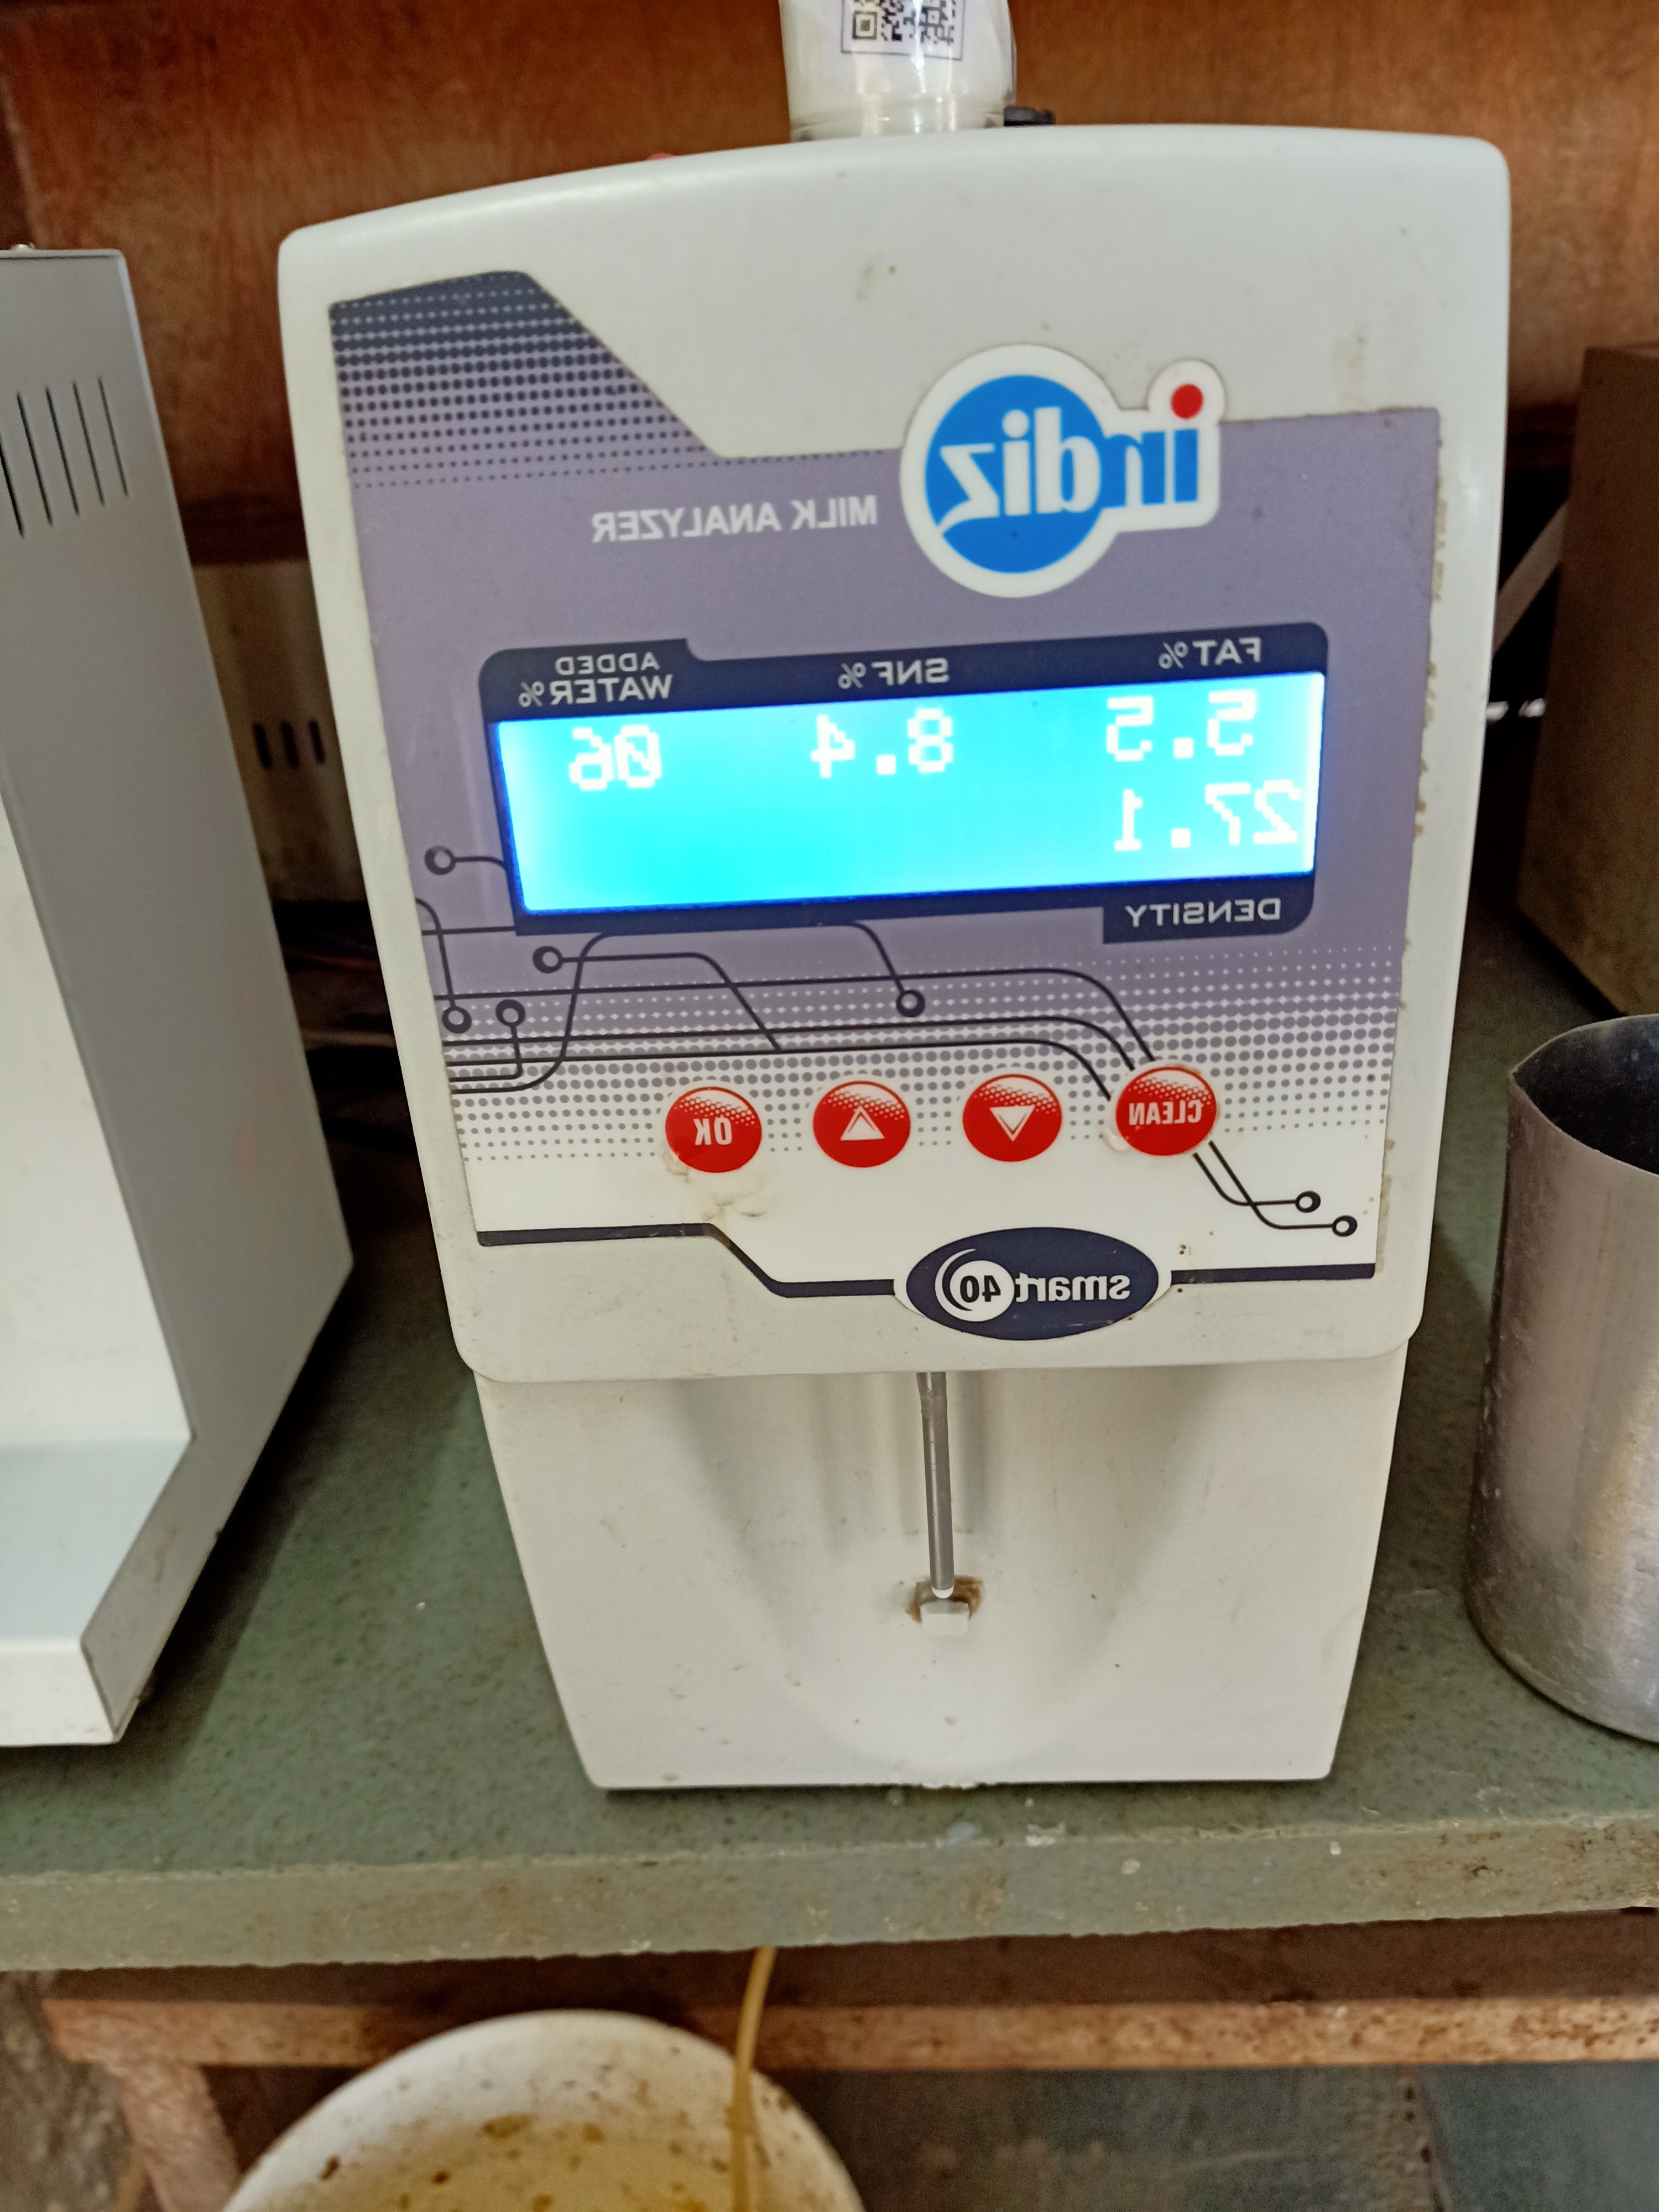lcd: (476, 681, 1330, 920)
